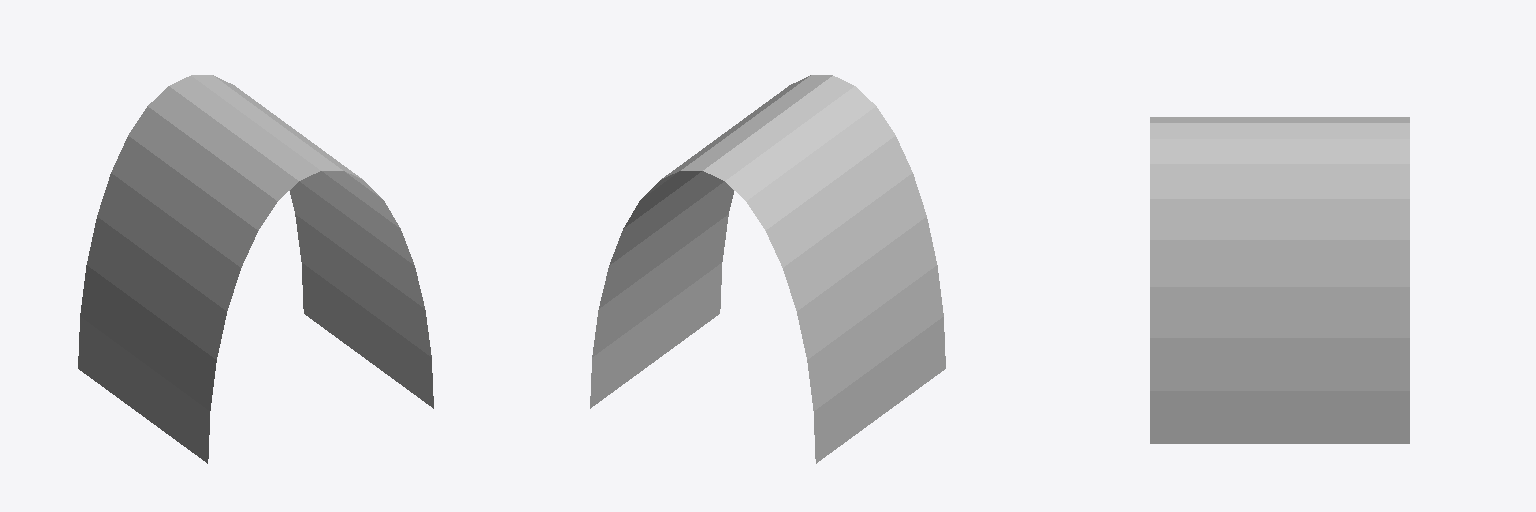
Rendered from connector_straight.obj.
3 renders of one model, left to right at view 1: azimuth 30°, elevation 25°; view 2: azimuth 150°, elevation 25°; view 3: azimuth 270°, elevation 25°, orthographic.
Visible parts, largest first — view 1: Connector_straight; view 2: Connector_straight; view 3: Connector_straight.
Boxes of the visible parts, <box> form: Connector_straight: <box>78,75,433,463</box>; Connector_straight: <box>590,75,945,463</box>; Connector_straight: <box>1150,117,1409,443</box>.
Bounding box in the file's own units: 2 × 2.25 × 2.